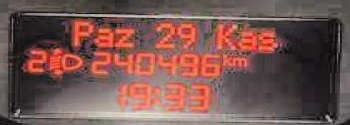0: (133, 51, 153, 74)
1: (118, 81, 124, 106)
2: (153, 22, 174, 48), (90, 50, 110, 73), (25, 49, 45, 71)
3: (163, 81, 183, 109), (188, 83, 208, 110)
4: (111, 51, 131, 74), (156, 53, 175, 74)
6: (199, 51, 218, 76)
9: (175, 20, 196, 47), (128, 82, 149, 108), (178, 51, 198, 75)
X: (211, 21, 235, 49), (71, 19, 91, 46), (255, 28, 276, 49), (113, 27, 133, 47), (236, 29, 255, 49), (93, 25, 111, 46), (151, 85, 160, 104), (231, 55, 246, 65), (220, 52, 231, 65)
